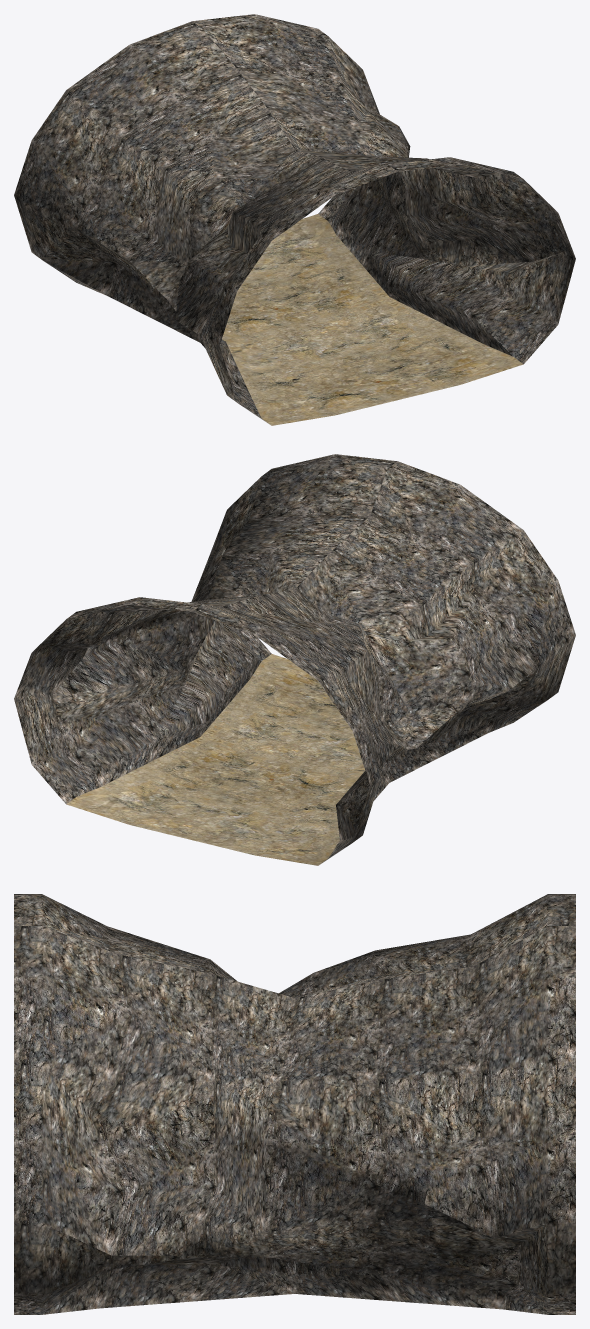
File: pir_m_are_cav_hallWide100.fbx
3 renders of one model, top to bottom at view 1: azimuth 30°, elevation 25°; view 2: azimuth 150°, elevation 25°; view 3: azimuth 270°, elevation 25°, orthographic. The views are drawn at different scales.
Visible parts, largest first — view 1: hallTransition_wall, hallTransition_floor; view 2: hallTransition_wall, hallTransition_floor; view 3: hallTransition_wall.
Part boxes in pixels (x1=…): hallTransition_wall: x1=14, y1=14, x2=575, y2=424; hallTransition_floor: x1=222, y1=214, x2=523, y2=425; hallTransition_wall: x1=14, y1=454, x2=575, y2=864; hallTransition_floor: x1=66, y1=654, x2=365, y2=865; hallTransition_wall: x1=14, y1=894, x2=575, y2=1314.
Bounding box in the file's own units: 10000 × 6125 × 10000.
2 materials, 2 textured.
